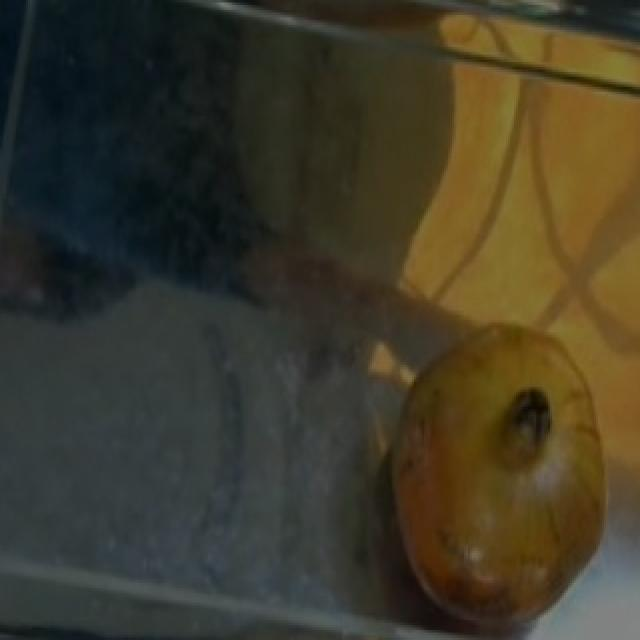fruit: (366, 291, 636, 538)
